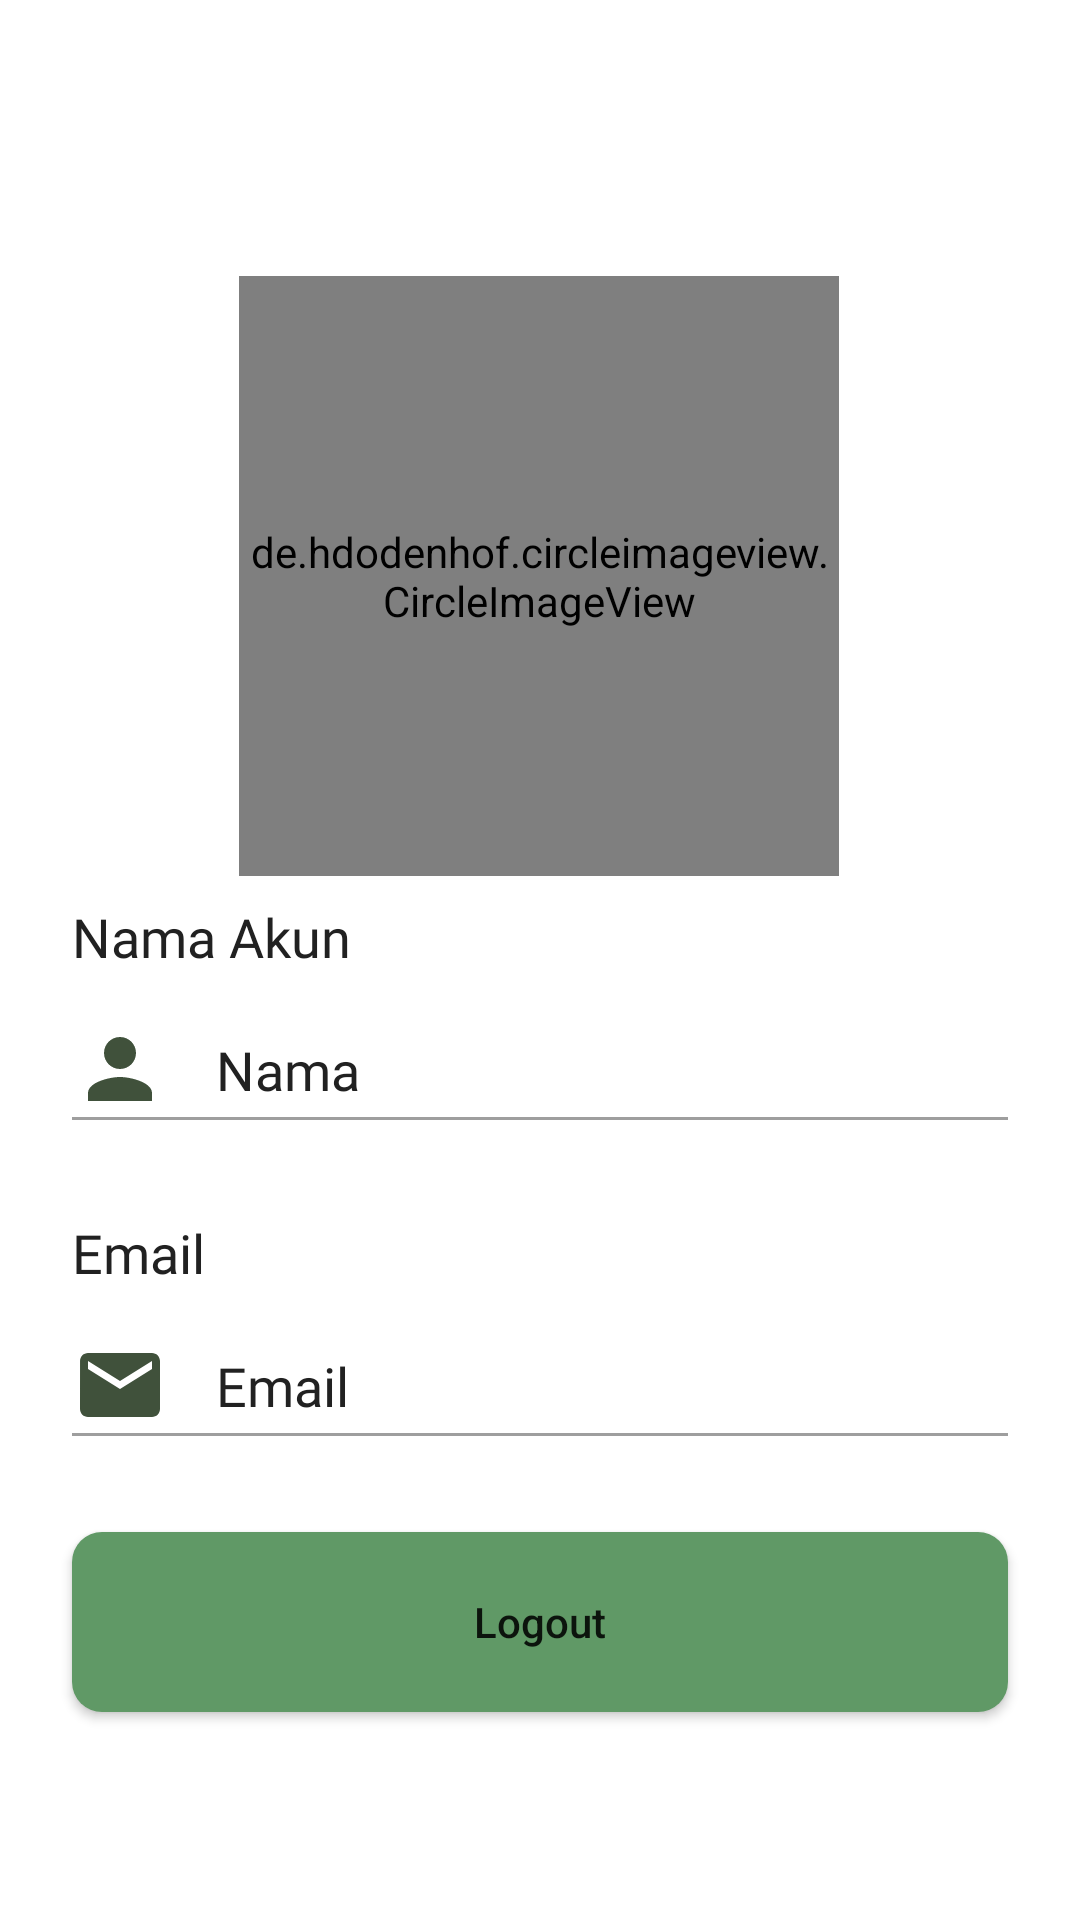

Icon bounding boxes for this 1080x1920 phone screenshot, format (x1, y1, x2, y2):
person: (88, 1037, 152, 1101)
